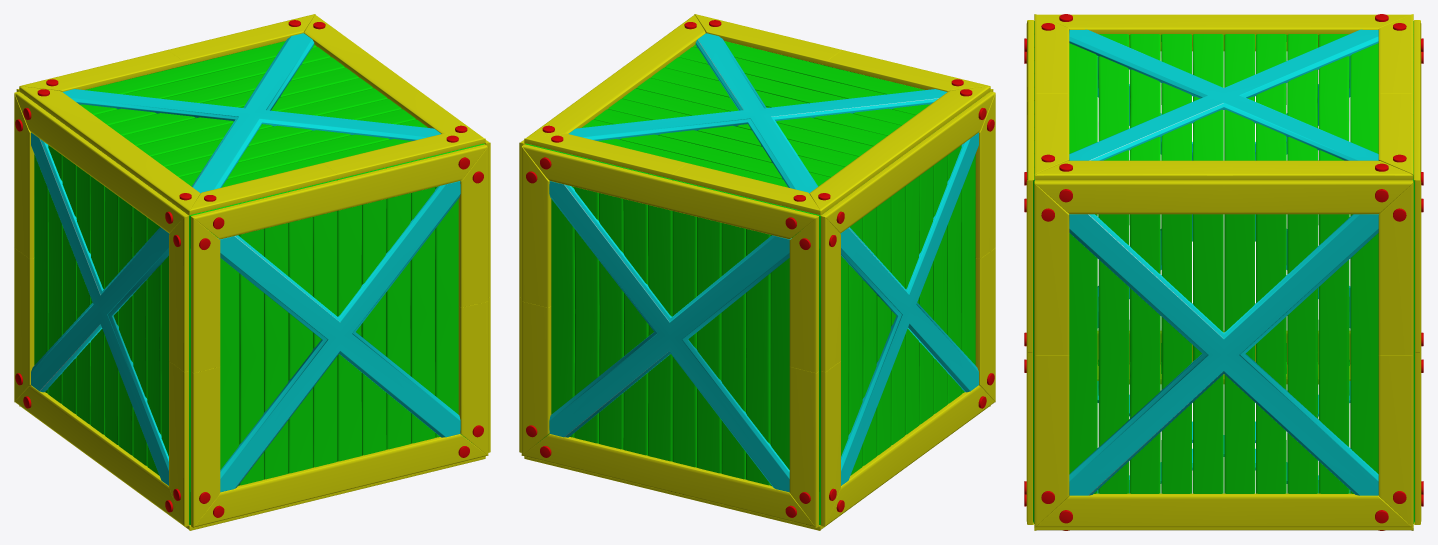
File: SM_WoodCrateHigh.fbx
The picture shows the model from 3 angles, left to right: view 1: azimuth 30°, elevation 25°; view 2: azimuth 150°, elevation 25°; view 3: azimuth 270°, elevation 25°; orthographic projection. The views are drawn at different scales.
Visible parts, largest first — view 1: BoxSides, BoxTops; view 2: BoxSides, BoxTops; view 3: BoxSides, BoxTops.
Boxes of the visible parts, x1,y1,x2,y2 form: BoxSides: [14, 89, 490, 527]; BoxTops: [19, 14, 485, 530]; BoxSides: [519, 89, 995, 527]; BoxTops: [524, 14, 990, 530]; BoxSides: [1024, 20, 1423, 527]; BoxTops: [1034, 14, 1413, 530].
Size of the model in its own units: 86.78 by 86.78 by 86.78.
